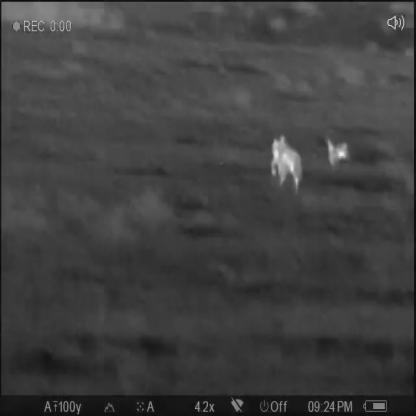rehkitze: (270, 133, 304, 197), (326, 134, 353, 178)
